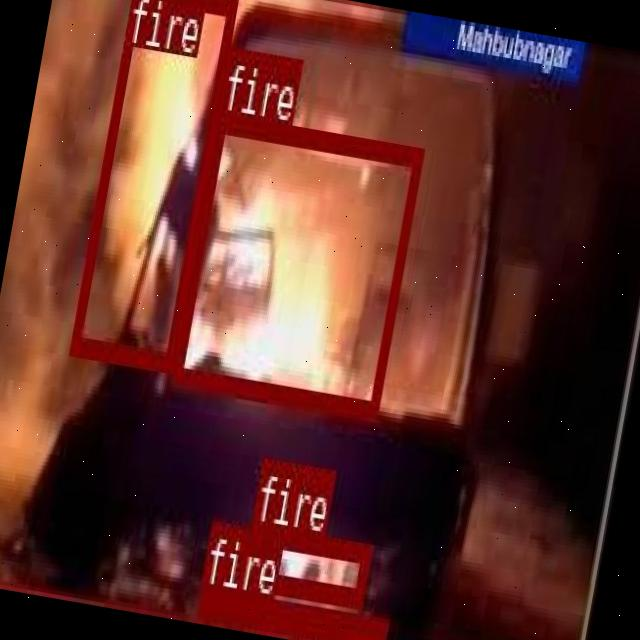fire: (170, 108, 423, 418), (69, 0, 236, 367), (240, 523, 370, 604), (195, 585, 386, 640)
